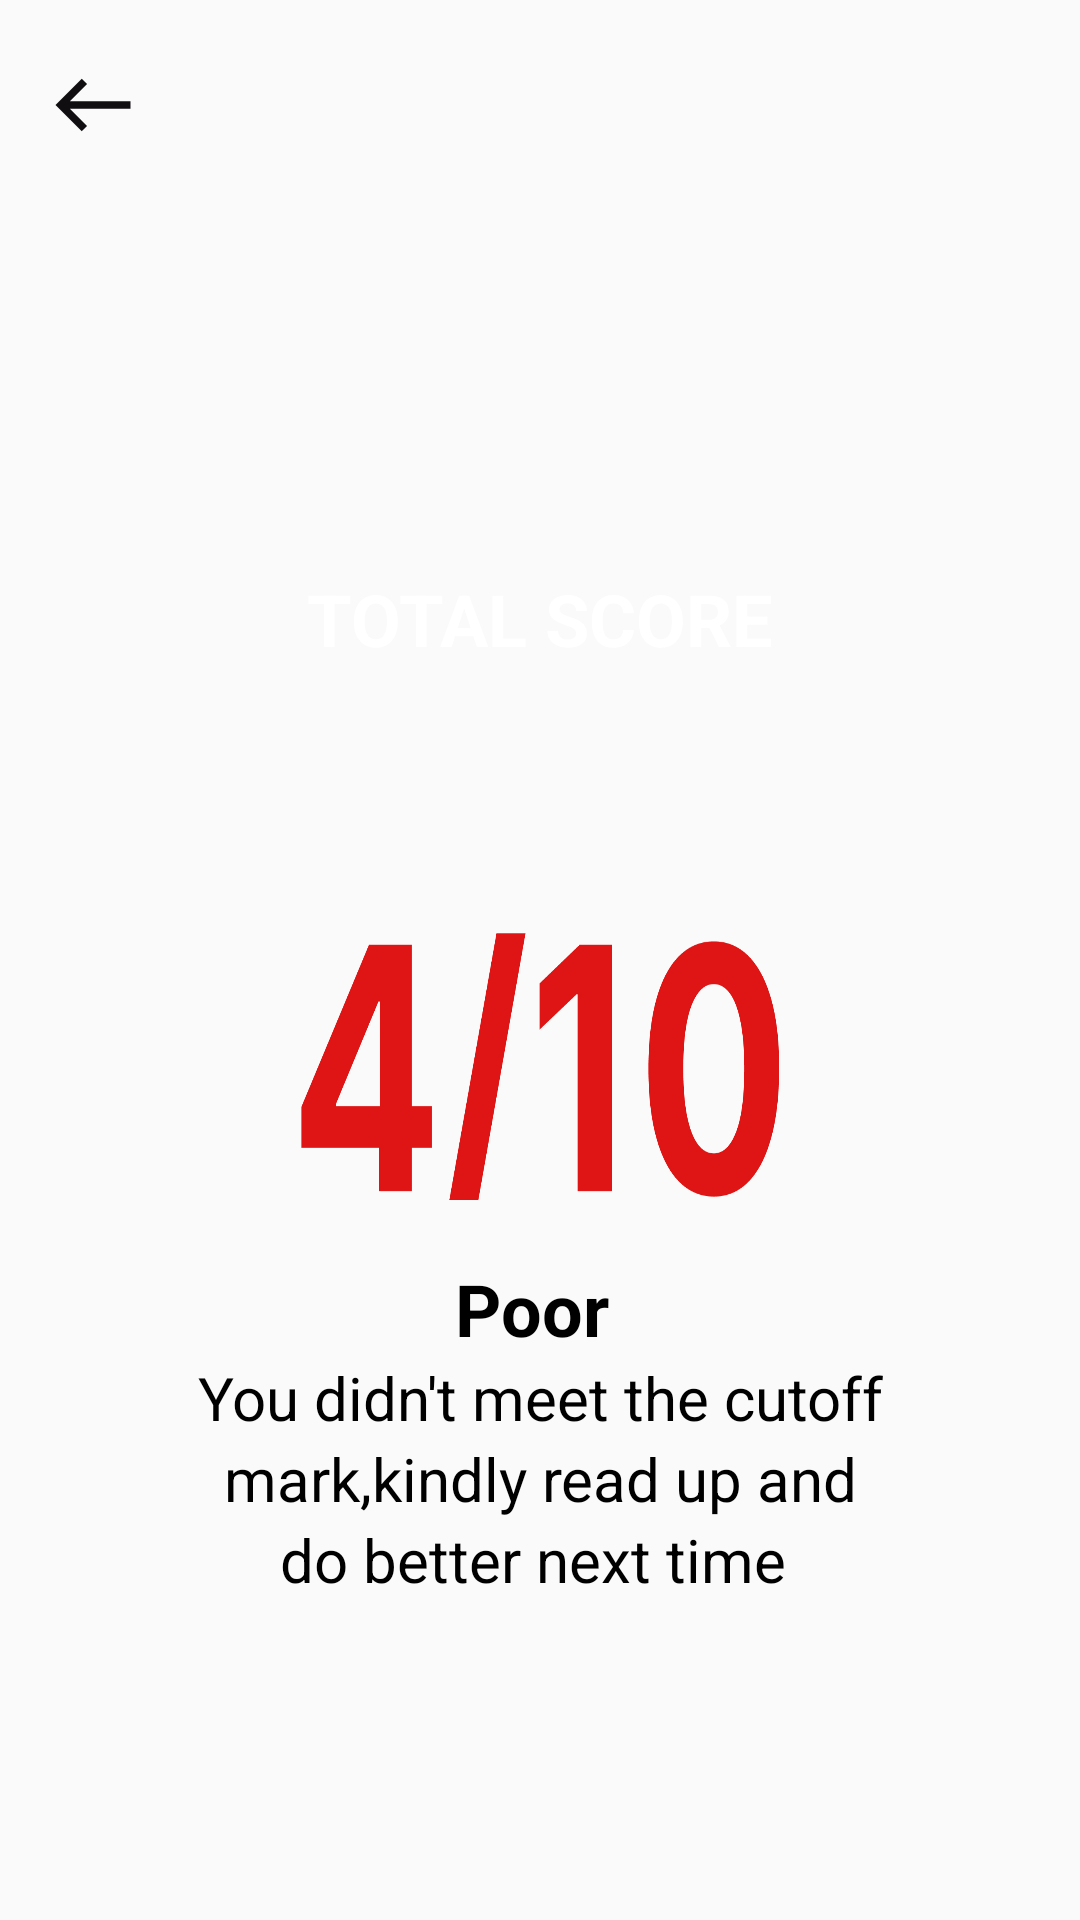

Screen size 1080w x 1920h. Icon name, then its box in pixels as BBox(x1, y1, x2, y2):
west: BBox(55, 79, 131, 131)
